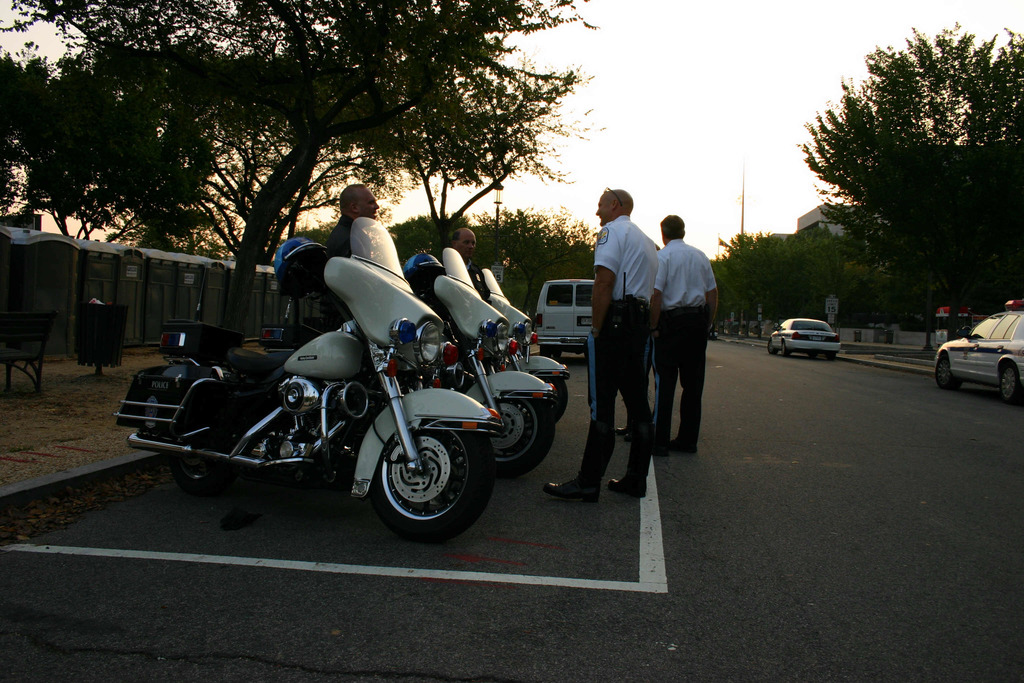mobil: (917, 288, 1024, 438), (757, 312, 854, 362)
motor: (119, 241, 468, 563)
